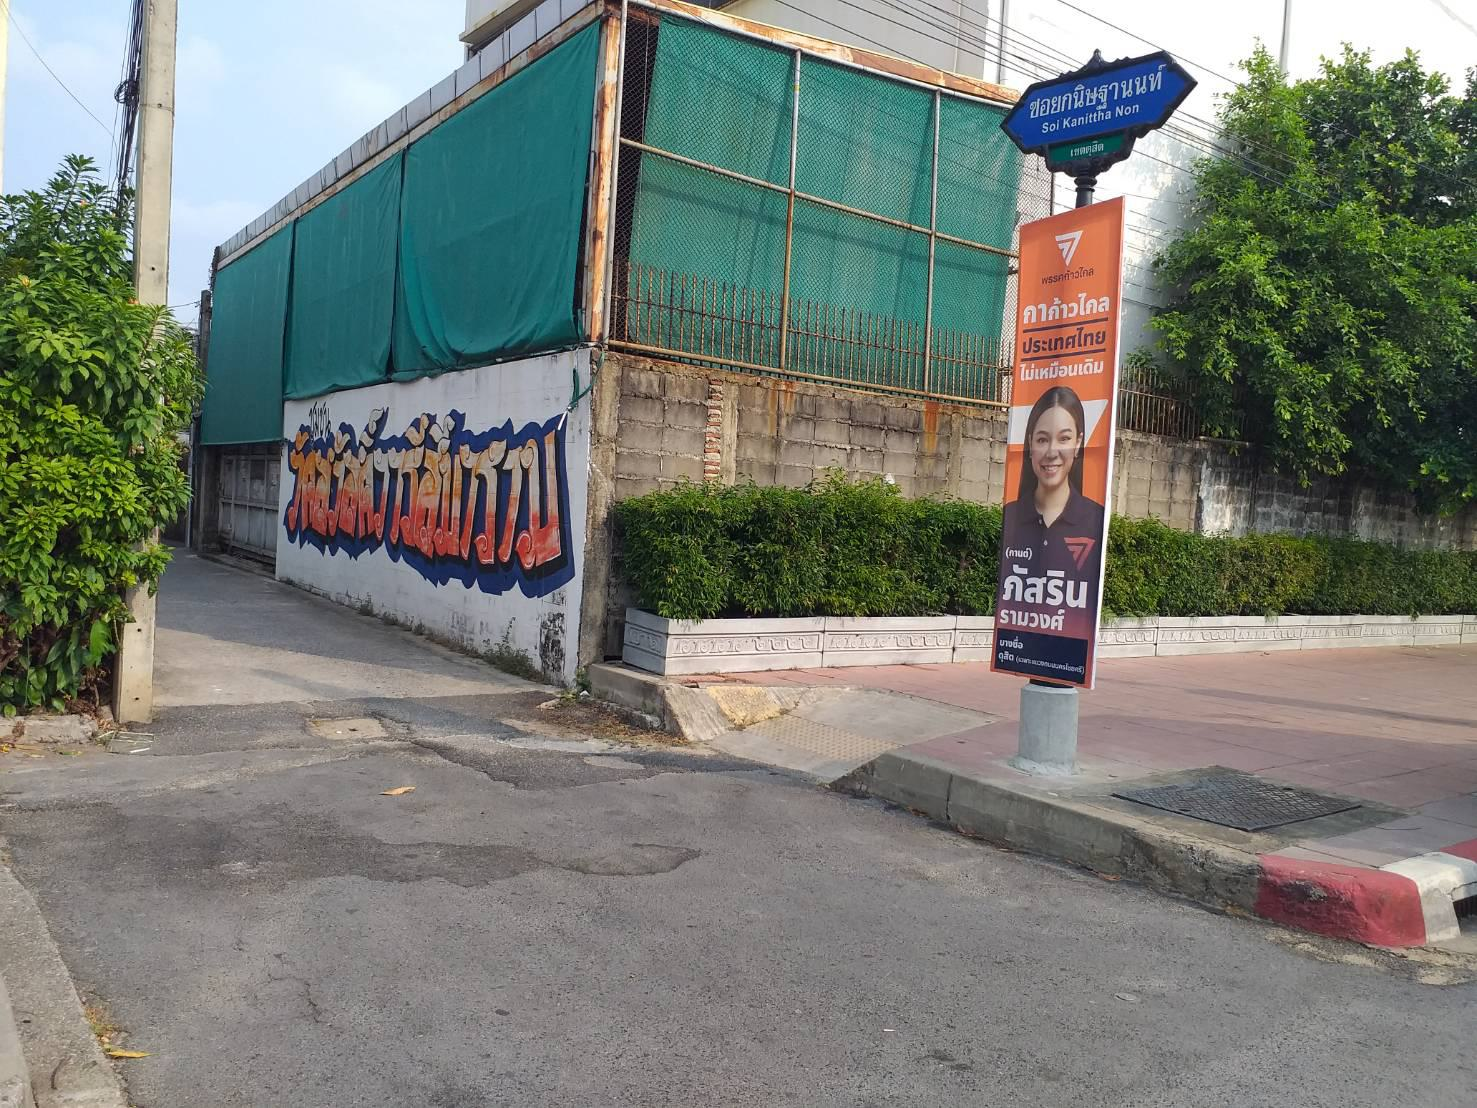Banner: (973, 214, 1119, 690)
